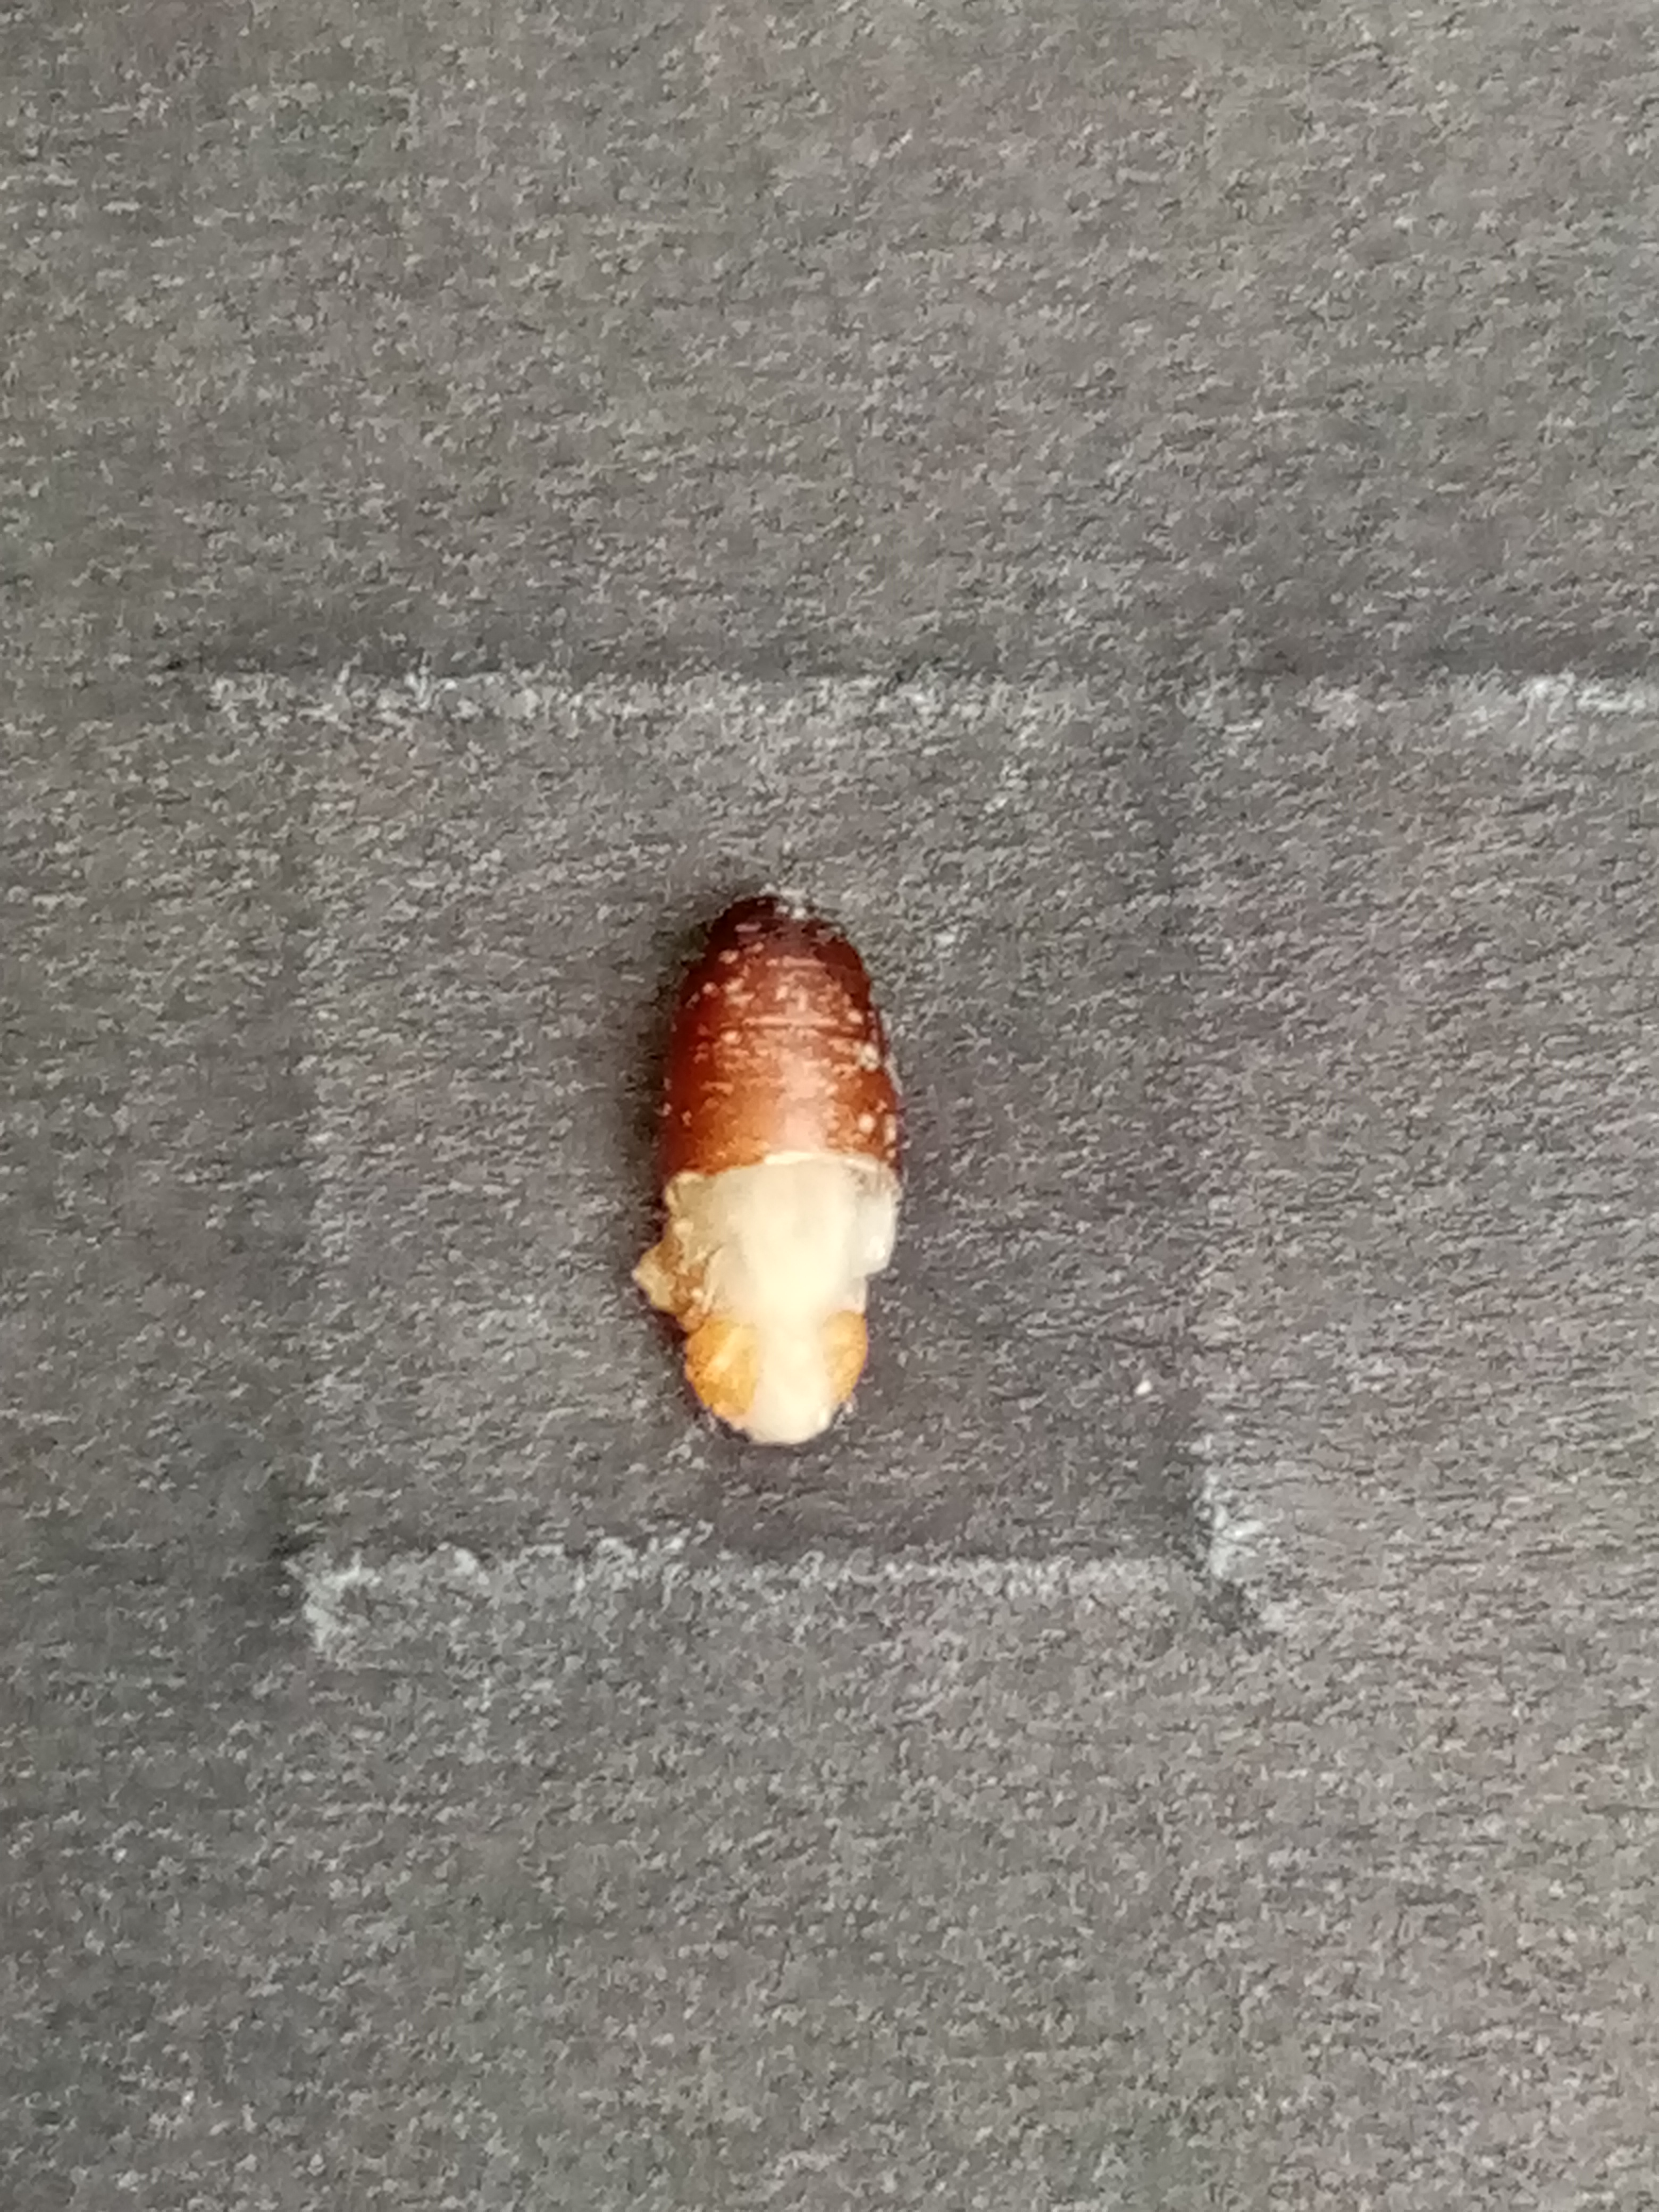pupa: (681, 1298, 871, 1446)
